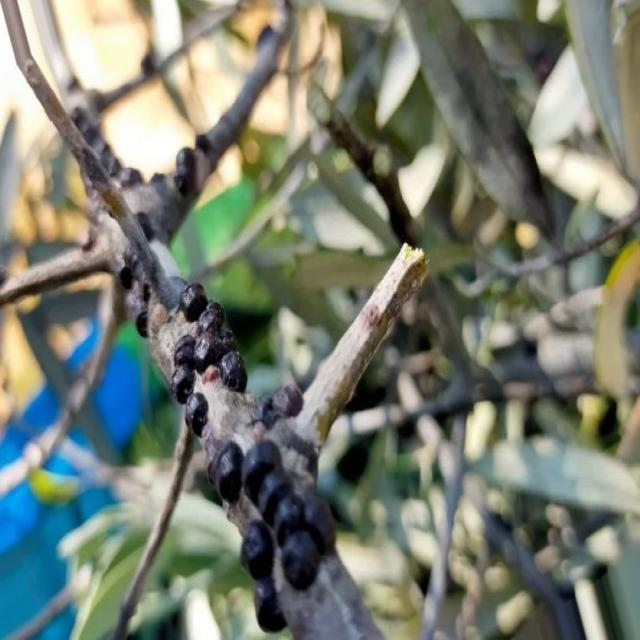Black Scale: (211, 438, 338, 630), (171, 284, 246, 403), (185, 392, 209, 436)
